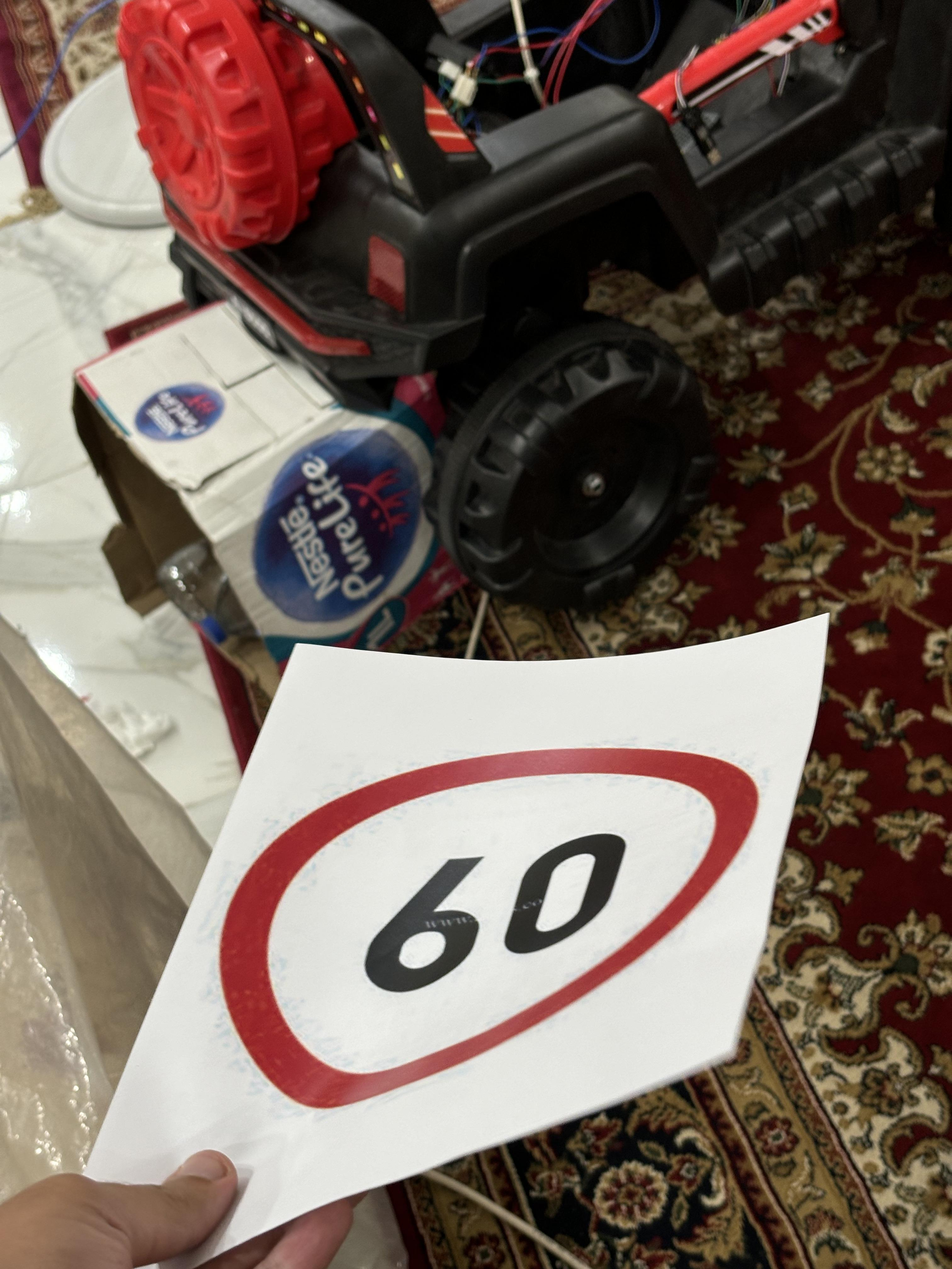60-Speed: (234, 734, 747, 1084)
